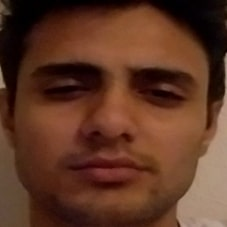drowsy: (24, 49, 202, 196)
